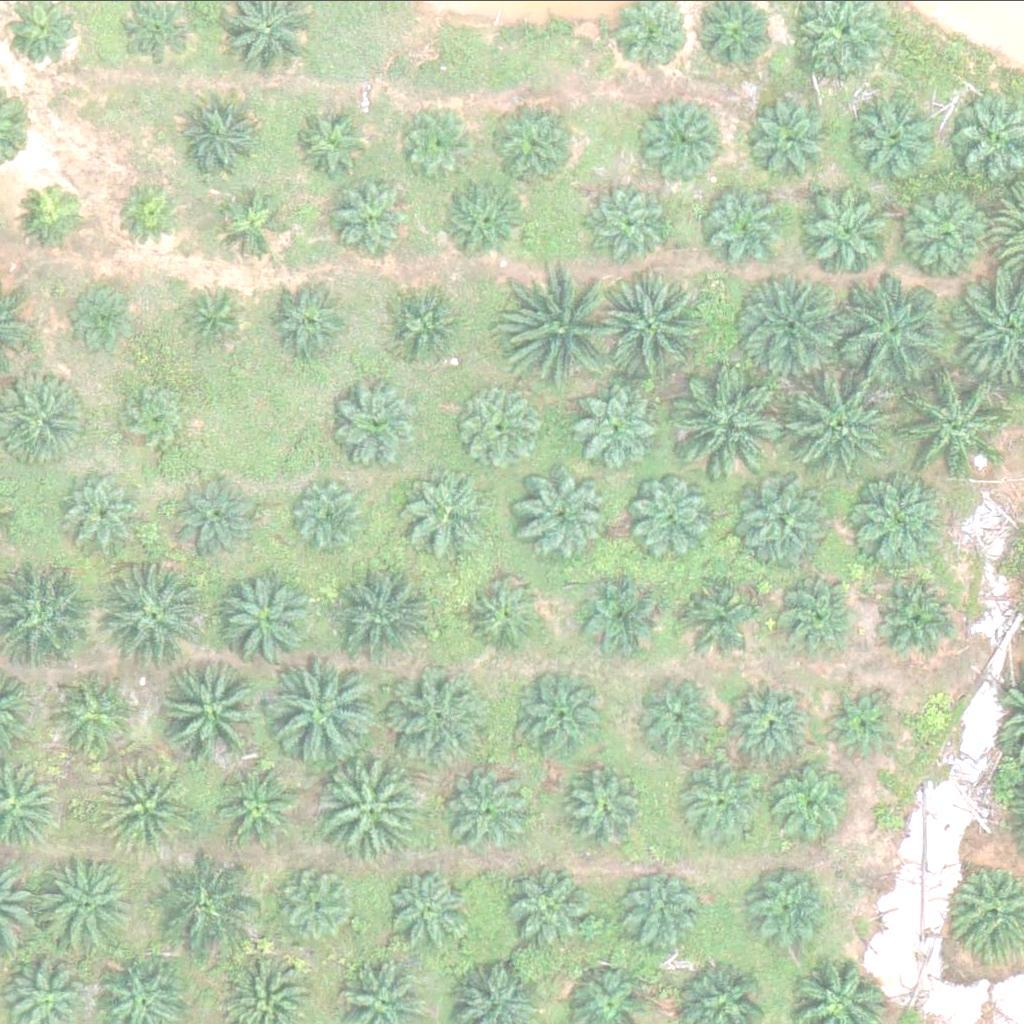Kelapa_Sawit: (732, 275, 846, 388), (509, 268, 622, 381), (830, 271, 943, 384), (334, 563, 447, 676), (271, 654, 384, 767), (143, 843, 256, 956), (156, 649, 270, 761), (602, 271, 715, 383), (896, 364, 1009, 476), (787, 364, 900, 476), (675, 368, 788, 480), (315, 755, 428, 867), (32, 845, 145, 957), (99, 562, 212, 674), (849, 88, 950, 188), (742, 471, 843, 571), (221, 567, 322, 667), (388, 670, 489, 770), (96, 758, 197, 858), (895, 178, 995, 278), (799, 174, 899, 274), (848, 472, 948, 572), (325, 173, 414, 261), (269, 275, 357, 363), (385, 287, 473, 375), (492, 103, 580, 191), (702, 180, 790, 268), (528, 471, 616, 559), (629, 471, 717, 559), (274, 857, 362, 945), (381, 868, 469, 956), (509, 864, 597, 952), (611, 871, 699, 959), (559, 769, 647, 857), (514, 671, 602, 759), (877, 572, 965, 660), (460, 570, 548, 658), (461, 381, 549, 469), (217, 763, 305, 851), (41, 665, 129, 753), (174, 472, 262, 560), (56, 465, 144, 553), (178, 87, 266, 175), (440, 175, 528, 262), (588, 182, 676, 269), (645, 93, 733, 180), (740, 97, 828, 184), (746, 865, 834, 952), (763, 755, 851, 842), (678, 759, 766, 846), (442, 768, 530, 855), (639, 674, 727, 761), (723, 673, 811, 760), (767, 575, 855, 662), (670, 567, 758, 654), (573, 575, 661, 662), (332, 380, 420, 467), (574, 383, 662, 470), (405, 469, 493, 556), (295, 477, 371, 552), (66, 279, 142, 354), (405, 104, 481, 179), (820, 684, 896, 759), (178, 281, 254, 356), (16, 174, 91, 249), (216, 189, 291, 264), (121, 375, 196, 450), (300, 101, 375, 176), (112, 174, 187, 249)
